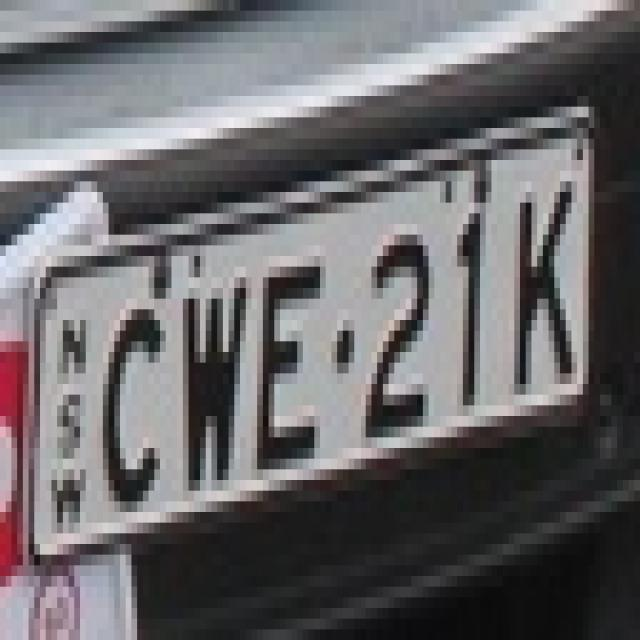licenseplate: (25, 106, 613, 552)
